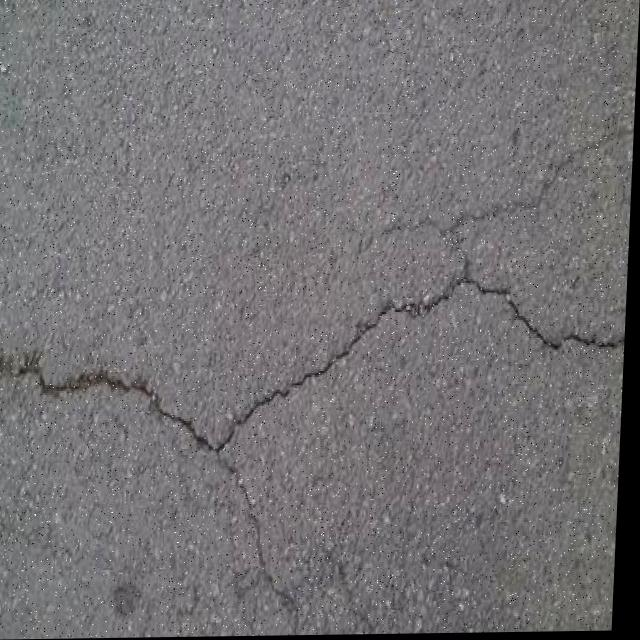Crack: (0, 268, 630, 477), (362, 115, 623, 264), (223, 478, 342, 637)
